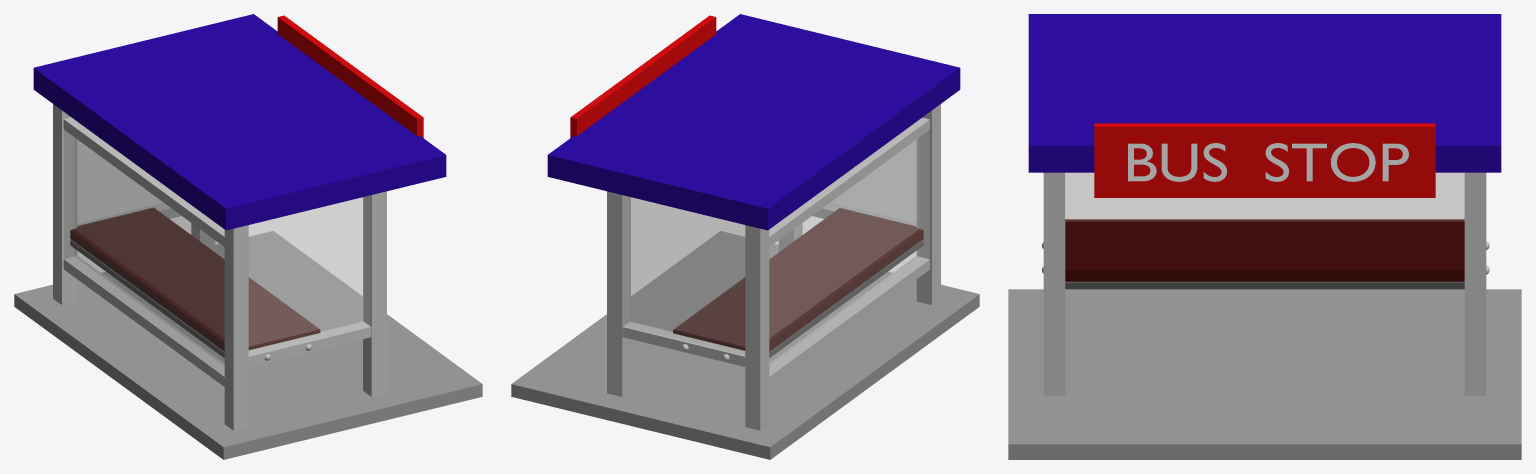
The model's file is bus stop.fbx.
3 views of the same model, side by side, from view 1: azimuth 30°, elevation 25°; view 2: azimuth 150°, elevation 25°; view 3: azimuth 270°, elevation 25° (orthographic). The views are drawn at different scales.
Visible parts, largest first — view 1: Cube.003, Cube, Cube.005, Cube.006, Cube.001, Cube.007, Cube.002, Cube.004, Cube.008; view 2: Cube.003, Cube, Cube.005, Cube.006, Cube.001, Cube.007, Cube.002, Cube.004, Cube.008; view 3: Cube, Cube.003, Cube.007, Cube.004, Cube.005, Cube.001, Text, Cube.008.
Boxes of the visible parts, x1=… form: Cube.003: x1=33, y1=14, x2=446, y2=230; Cube: x1=14, y1=231, x2=482, y2=459; Cube.005: x1=64, y1=130, x2=224, y2=375; Cube.006: x1=77, y1=140, x2=370, y2=355; Cube.001: x1=53, y1=104, x2=386, y2=430; Cube.007: x1=70, y1=207, x2=320, y2=351; Cube.002: x1=63, y1=117, x2=224, y2=386; Cube.004: x1=277, y1=15, x2=423, y2=137; Cube.008: x1=70, y1=240, x2=224, y2=357; Cube.003: x1=547, y1=14, x2=960, y2=230; Cube: x1=511, y1=231, x2=979, y2=459; Cube.005: x1=769, y1=130, x2=929, y2=375; Cube.006: x1=623, y1=140, x2=916, y2=355; Cube.001: x1=607, y1=104, x2=940, y2=430; Cube.007: x1=673, y1=208, x2=923, y2=351; Cube.002: x1=769, y1=117, x2=929, y2=386; Cube.004: x1=570, y1=15, x2=716, y2=137; Cube.008: x1=769, y1=240, x2=923, y2=357; Cube: x1=1008, y1=289, x2=1521, y2=459; Cube.003: x1=1028, y1=14, x2=1501, y2=172; Cube.007: x1=1065, y1=219, x2=1464, y2=281; Cube.004: x1=1094, y1=123, x2=1435, y2=197; Cube.005: x1=1065, y1=172, x2=1464, y2=221; Cube.001: x1=1043, y1=172, x2=1486, y2=395; Text: x1=1128, y1=143, x2=1408, y2=181; Cube.008: x1=1065, y1=281, x2=1464, y2=289.
Size of the model in its own units: 600 by 575 by 840.
